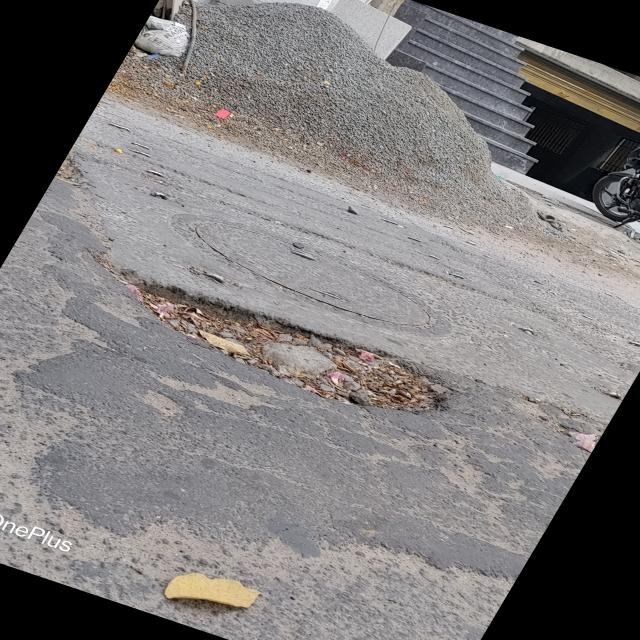potholes: (102, 271, 472, 416)
